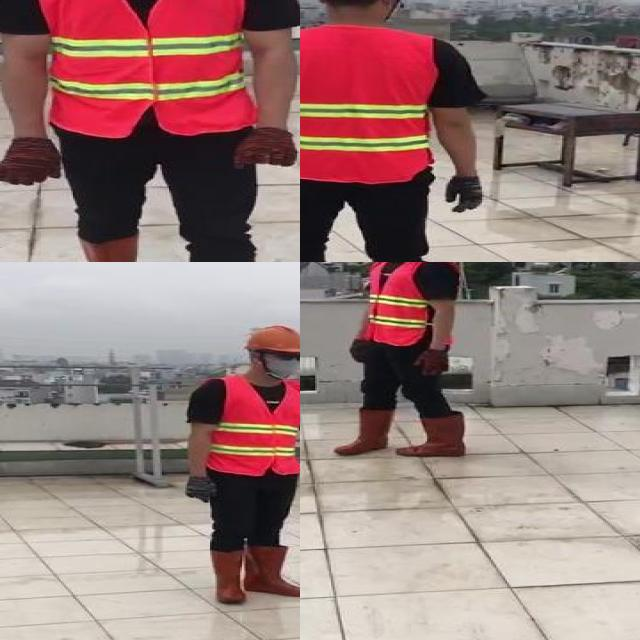boots: (395, 411, 466, 458), (243, 544, 300, 595), (334, 408, 392, 458), (210, 547, 246, 608), (76, 238, 138, 262)
face_mask: (262, 348, 300, 377)
glasses: (272, 348, 300, 364)
hand_glove: (0, 137, 60, 187), (235, 126, 295, 171), (444, 173, 486, 213), (412, 347, 453, 376), (182, 474, 217, 504)
head_helmet: (240, 324, 300, 356)
person: (0, 0, 300, 262), (300, 0, 509, 262), (178, 322, 300, 611), (330, 262, 472, 460)
vest: (27, 0, 258, 135), (300, 22, 435, 184), (206, 374, 300, 476), (363, 262, 437, 343)
